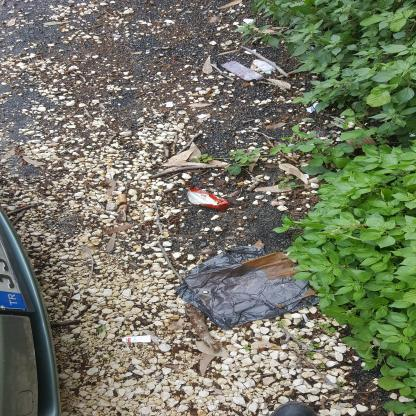plastik: (186, 187, 210, 231), (62, 152, 82, 196)
